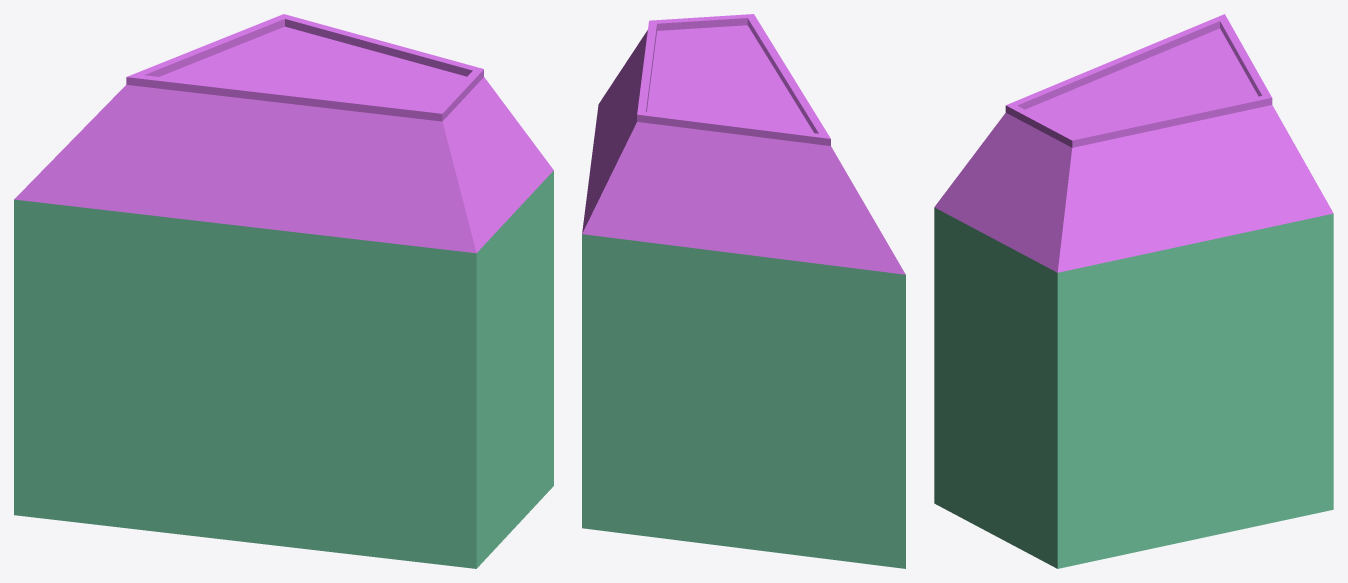
Rendered from Batiment12.fbx.
The picture shows the model from 3 angles, left to right: view 1: azimuth 30°, elevation 25°; view 2: azimuth 150°, elevation 25°; view 3: azimuth 270°, elevation 25°; orthographic projection. The views are drawn at different scales.
Parts seen in each view (by area): view 1: Batiment12; view 2: Batiment12; view 3: Batiment12.
Boxes of the visible parts, x1,y1,x2,y2 form: Batiment12: (14, 14, 553, 568); Batiment12: (582, 14, 905, 568); Batiment12: (934, 14, 1333, 568).
Size of the model in its own units: 35.26 by 33.03 by 29.9.
